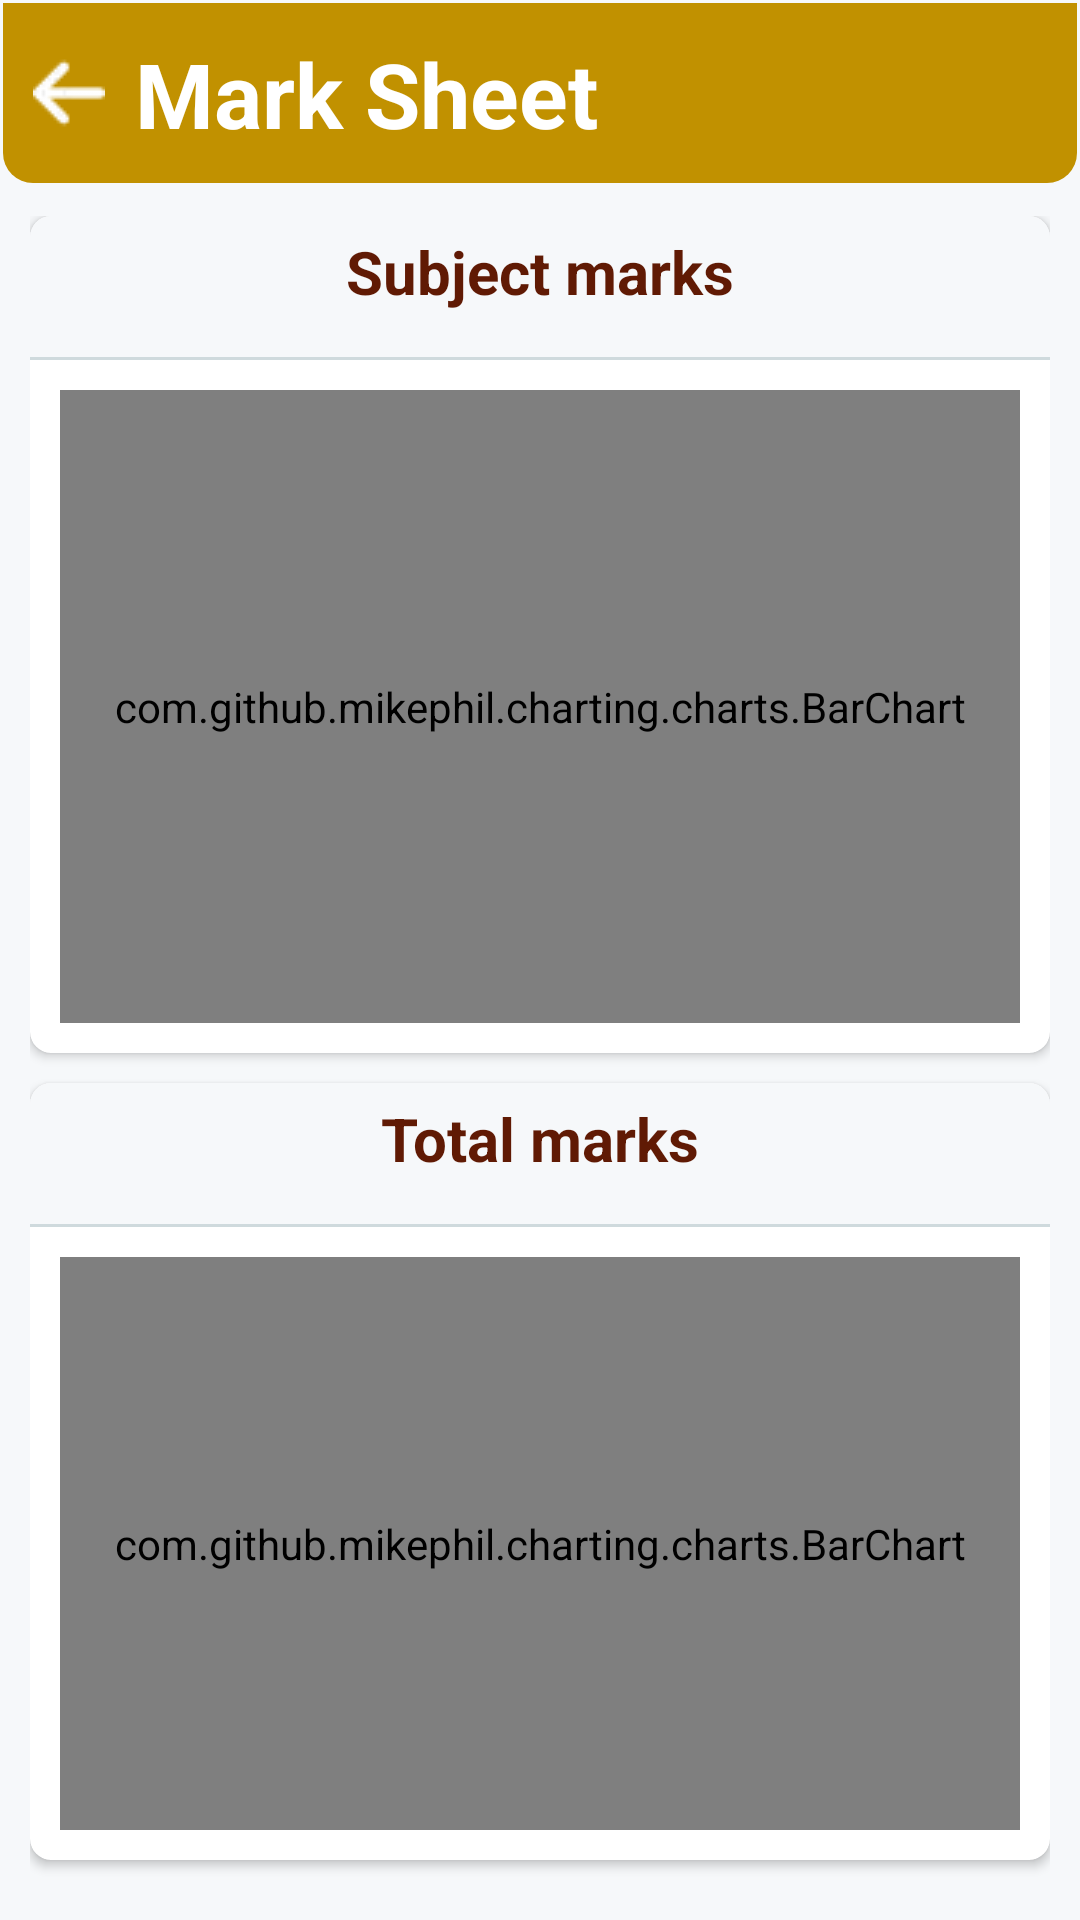

Icon bounding boxes for this 1080px×1920px phone screenshot, format {"left": x1, "top": y1, "right": x2, "bottom": y2}:
arrow: {"left": 33, "top": 60, "right": 105, "bottom": 126}
